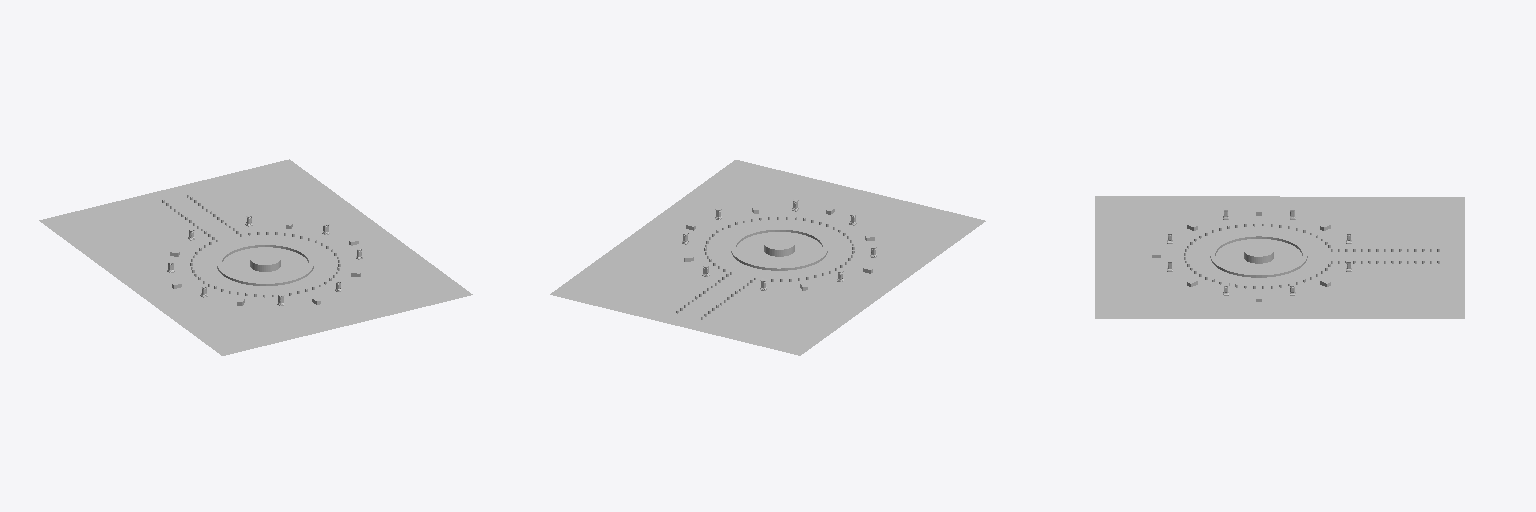
3 views of the same model, side by side, from view 1: azimuth 30°, elevation 25°; view 2: azimuth 150°, elevation 25°; view 3: azimuth 270°, elevation 25° (orthographic).
Visible parts, largest first — view 1: Plane, Cylinder.002, Cylinder; view 2: Plane, Cylinder.002, Cylinder; view 3: Plane, Cylinder.002.
Part boxes in pixels (left/top/right/bottom): Plane: left=39, top=159, right=472, bottom=355; Cylinder.002: left=217, top=243, right=313, bottom=285; Cylinder: left=250, top=252, right=280, bottom=271; Plane: left=550, top=160, right=985, bottom=355; Cylinder.002: left=731, top=227, right=827, bottom=270; Cylinder: left=764, top=237, right=794, bottom=256; Plane: left=1095, top=196, right=1464, bottom=318; Cylinder.002: left=1210, top=234, right=1307, bottom=277.
Size of the model in its own units: 114 by 7.52 by 145.